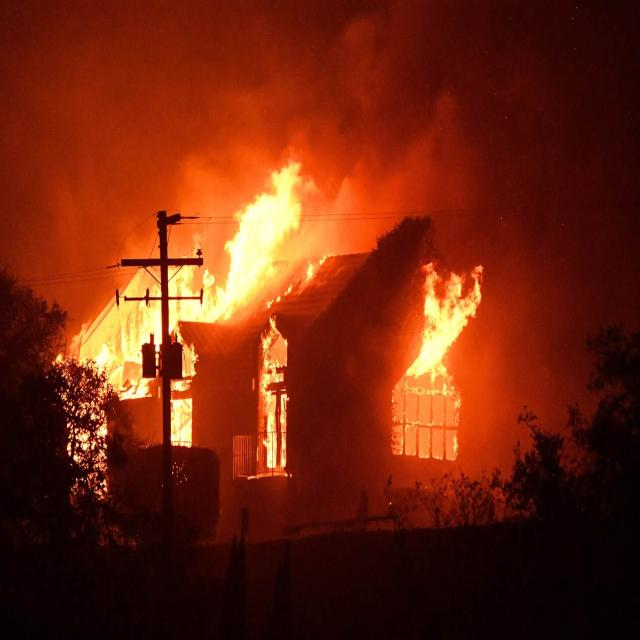Fire: (99, 161, 303, 351), (405, 276, 488, 374), (258, 326, 292, 483)
Smoke: (172, 5, 638, 273)
